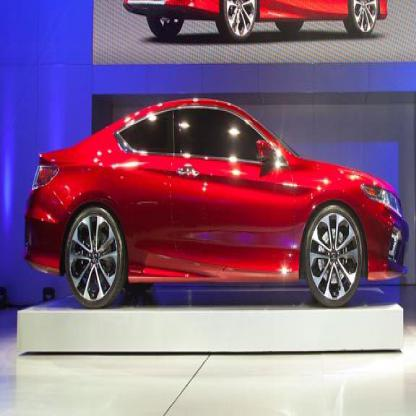Vehicle: (23, 96, 407, 308)
